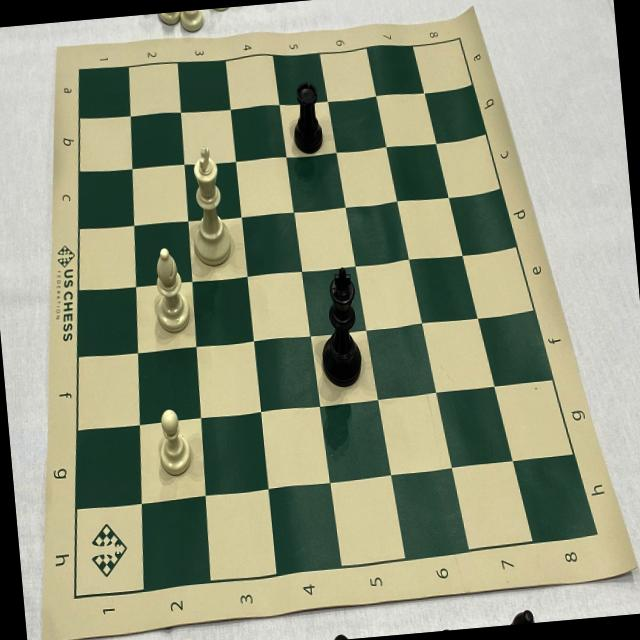black-king: (310, 262, 368, 393)
black-rook: (287, 78, 327, 158)
white-bishop: (146, 242, 192, 335)
white-king: (184, 138, 236, 270)
white-pawn: (152, 404, 193, 482)
